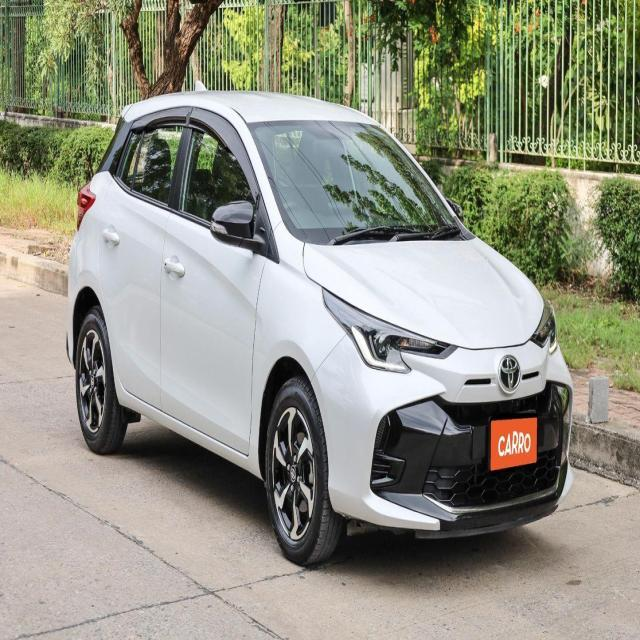Hatchback: (65, 92, 574, 570)
